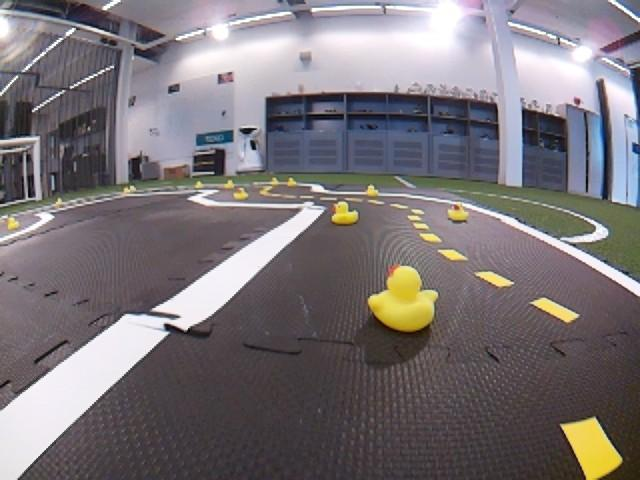Duckies: (366, 262, 438, 330), (331, 200, 360, 225), (447, 204, 468, 221), (232, 187, 249, 200), (7, 217, 20, 230), (366, 184, 379, 196), (287, 177, 296, 187), (223, 180, 234, 188), (194, 181, 204, 188), (270, 178, 279, 185), (55, 199, 63, 205), (123, 187, 131, 193), (129, 186, 136, 191)
